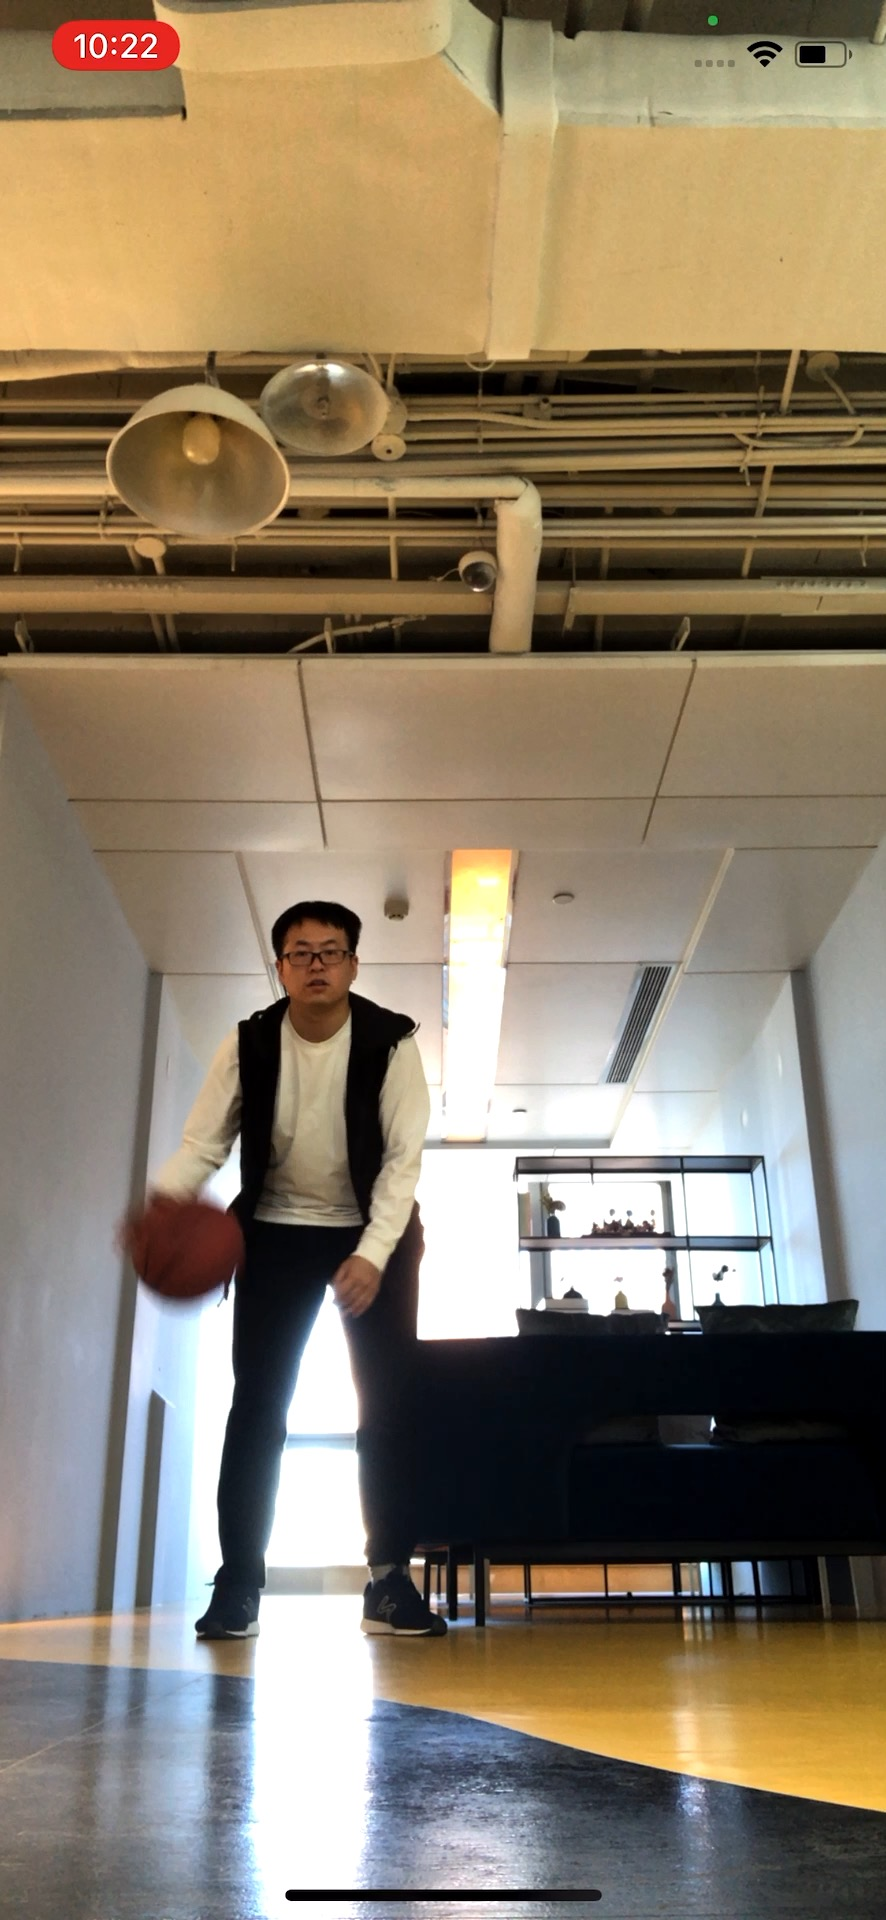ball: (127, 1198, 244, 1304)
